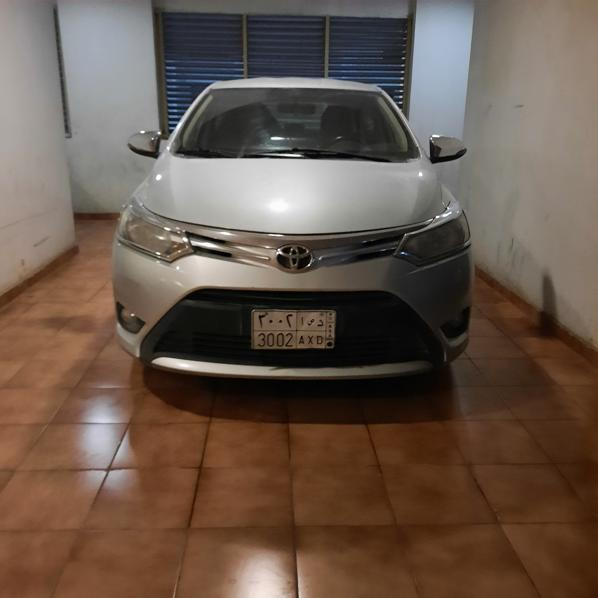numberplate: (252, 310, 337, 351)
